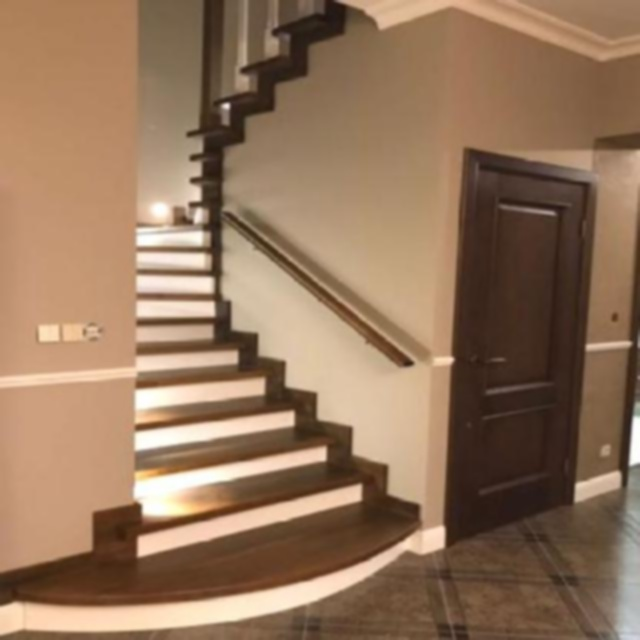stair: (85, 51, 493, 582)
